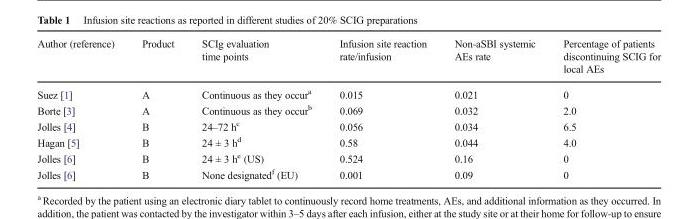table: (36, 37, 660, 180)
table column: (187, 37, 324, 180), (324, 37, 439, 180), (548, 37, 660, 180), (439, 37, 548, 180), (36, 37, 127, 180), (127, 37, 187, 180)
table column header: (36, 37, 660, 80)
table row: (36, 37, 660, 80), (36, 80, 660, 101), (36, 101, 660, 117), (36, 117, 660, 133), (36, 133, 660, 149), (36, 149, 660, 165), (36, 165, 660, 180)
